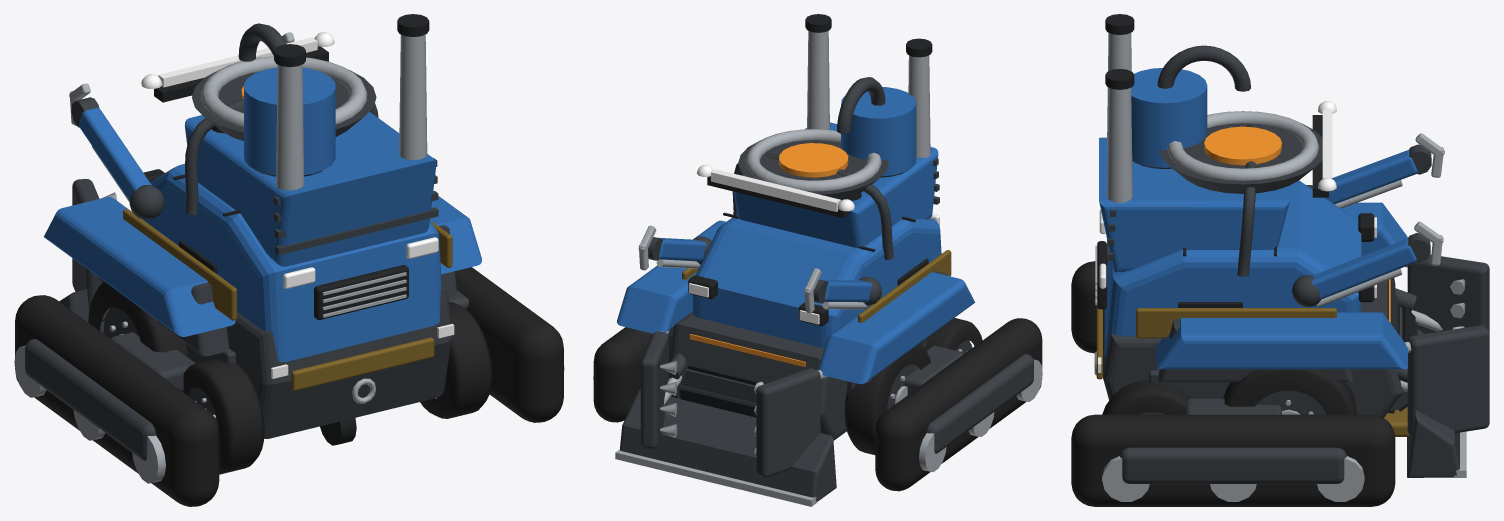
File: Machine_magnet_T5.glb
3 views of the same model, side by side, from view 1: azimuth 30°, elevation 25°; view 2: azimuth 150°, elevation 25°; view 3: azimuth 270°, elevation 25° (orthographic). The views are drawn at different scales.
Visible parts, largest first — view 1: Tier2_Parts_MAT_Player_Shell_18, Tier4_Parts_MAT_tread_39, Body_Shell_0, Tier1_Parts_MAT_Player_Gunmetal_8, Axle_Rear_MAT_tread_14, Tier4_Parts_MAT_steel_41, Tier4_Parts_MAT_Player_Gunmetal_40, Cyclone_Drum_38, Tier1_Parts_MAT_steel_10, Tier1_Parts_MAT_darkTrim_9, Tier1_Parts_MAT_Player_Hazard_11, Tier4_Parts_MAT_Player_Hazard_42 (+10 smaller); view 2: Tier2_Parts_MAT_Player_Shell_18, Body_Shell_0, Tier4_Parts_MAT_tread_39, Tier2_Parts_MAT_Player_Gunmetal_19, Tier1_Parts_MAT_Player_Gunmetal_8, Tier4_Parts_MAT_Player_Gunmetal_40, Jaw_L_Plate_34, Tier4_Parts_MAT_steel_41, Cyclone_Drum_38, Axle_Front_MAT_tread_5, Tier1_Parts_MAT_steel_10, Jaw_R_Plate_36 (+13 smaller); view 3: Tier2_Parts_MAT_Player_Shell_18, Tier4_Parts_MAT_tread_39, Body_Shell_0, Tier4_Parts_MAT_Player_Gunmetal_40, Tier1_Parts_MAT_Player_Gunmetal_8, Jaw_R_Plate_36, Tier4_Parts_MAT_steel_41, Cyclone_Drum_38, Jaw_L_Plate_34, Tier1_Parts_MAT_steel_10, Axle_Front_MAT_tread_5, Tier2_Parts_MAT_Player_Gunmetal_19 (+21 smaller).
Boxes of the visible parts, x1,y1,x2,y2 form: Tier2_Parts_MAT_Player_Shell_18: (44,111,481,336); Tier4_Parts_MAT_tread_39: (15,267,563,506); Body_Shell_0: (143,164,441,361); Tier1_Parts_MAT_Player_Gunmetal_8: (97,69,456,438); Axle_Rear_MAT_tread_14: (183,302,492,474); Tier4_Parts_MAT_steel_41: (14,34,564,483); Tier4_Parts_MAT_Player_Gunmetal_40: (25,23,468,460); Cyclone_Drum_38: (244,67,335,175); Tier1_Parts_MAT_steel_10: (201,56,406,403); Tier1_Parts_MAT_darkTrim_9: (143,169,408,445); Tier1_Parts_MAT_Player_Hazard_11: (291,337,434,390); Tier4_Parts_MAT_Player_Hazard_42: (123,209,452,320); Tier2_Parts_MAT_Player_Shell_18: (617,122,975,384); Body_Shell_0: (692,214,941,348); Tier4_Parts_MAT_tread_39: (593,318,1042,491); Tier2_Parts_MAT_Player_Gunmetal_19: (620,128,939,501); Tier1_Parts_MAT_Player_Gunmetal_8: (668,140,954,440); Tier4_Parts_MAT_Player_Gunmetal_40: (837,77,1033,453); Jaw_L_Plate_34: (756,368,820,477); Tier4_Parts_MAT_steel_41: (593,31,1042,471); Cyclone_Drum_38: (841,87,916,176); Axle_Front_MAT_tread_5: (668,335,930,454); Tier1_Parts_MAT_steel_10: (745,129,881,191); Jaw_R_Plate_36: (640,331,668,448); Tier2_Parts_MAT_Player_Shell_18: (1099,137,1407,369); Tier4_Parts_MAT_tread_39: (1071,261,1395,506); Body_Shell_0: (1104,180,1361,357); Tier4_Parts_MAT_Player_Gunmetal_40: (1120,45,1346,484); Tier1_Parts_MAT_Player_Gunmetal_8: (1103,123,1402,417); Jaw_R_Plate_36: (1407,325,1489,436); Tier4_Parts_MAT_steel_41: (1102,32,1364,501); Cyclone_Drum_38: (1131,68,1207,167); Jaw_L_Plate_34: (1407,254,1489,333); Tier1_Parts_MAT_steel_10: (1094,111,1319,375); Axle_Front_MAT_tread_5: (1223,369,1356,414); Tier2_Parts_MAT_Player_Gunmetal_19: (1107,209,1459,477).
Size of the model in its own units: 1.34 by 1.29 by 1.29.
